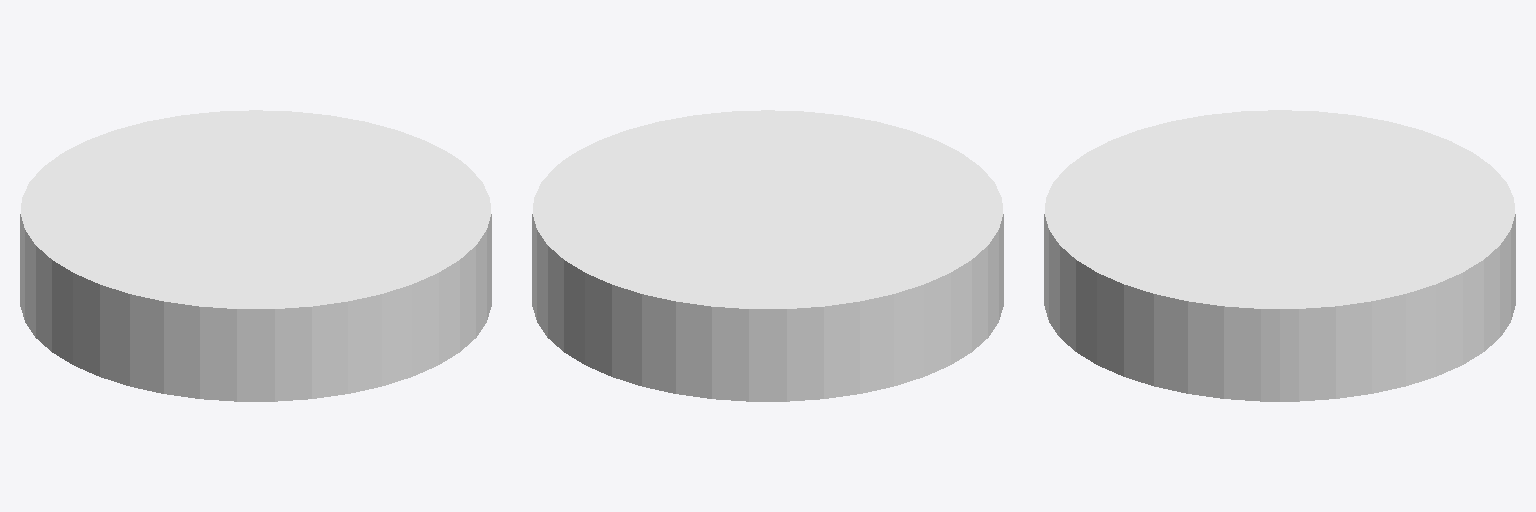
robot.urdf — cube.urdf:
<?xml version="0.0" ?>
<robot name="cube.urdf">
  <link name="baseLink">
    <contact>
      <lateral_friction value="0.3"/>
      <stiffness value="10000.0"/>
    </contact>
    <inertial>
      <origin rpy="0 0 0" xyz="-8.6736E-19 0 -3.4694E-18"/>
       <mass value="0.0045946"/>
       <inertia ixx="2.7462E-07" ixy="0" ixz="0" iyy="2.7462E-07" iyz="0" izz="5.1689E-07"/>
    </inertial>
    <visual>
      <origin rpy="0 0 0" xyz="0 0 0"/>
      <geometry>
        <mesh filename="cy.STL" scale="1 1 1"/>
      </geometry>
       <material name="white">
        <color rgba="1 1 1 1"/>
      </material>
    </visual>
    <collision>
      <origin rpy="0 0 0" xyz="0 0 0"/>
      <geometry>
        <mesh filename="cy.STL" scale="1 1 1"/>
      </geometry>
    </collision>
  </link>
</robot>

--- Render facts (derived) ---
3 views of the same robot in one strip: view 1: azimuth 30°, elevation 25°; view 2: azimuth 150°, elevation 25°; view 3: azimuth 270°, elevation 25° (orthographic).
Robot: cube.urdf — 1 links, 0 joints (none); root link baseLink; default pose: all joints at 0.
Visible links, largest first — view 1: baseLink; view 2: baseLink; view 3: baseLink.
Boxes of the visible links, <box> form: baseLink: <box>20,110,491,401</box>; baseLink: <box>532,110,1003,401</box>; baseLink: <box>1044,110,1515,401</box>.
Size in the robot's own frame: 0.03 by 0.03 by 0.0065 metres.
Meshes: 1 distinct files referenced, 1 mesh visuals loaded (1 binary STL).